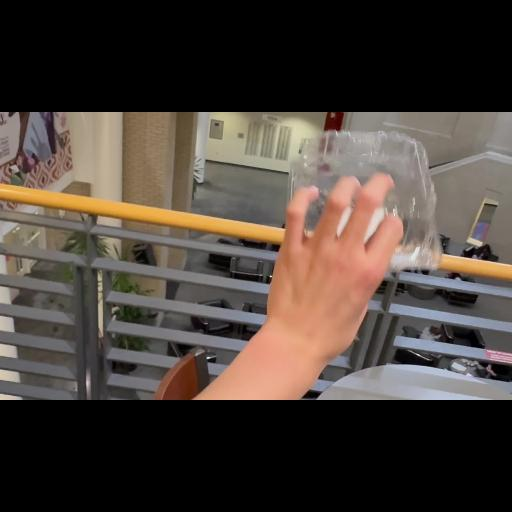small_plastic_container: (288, 128, 452, 280)
